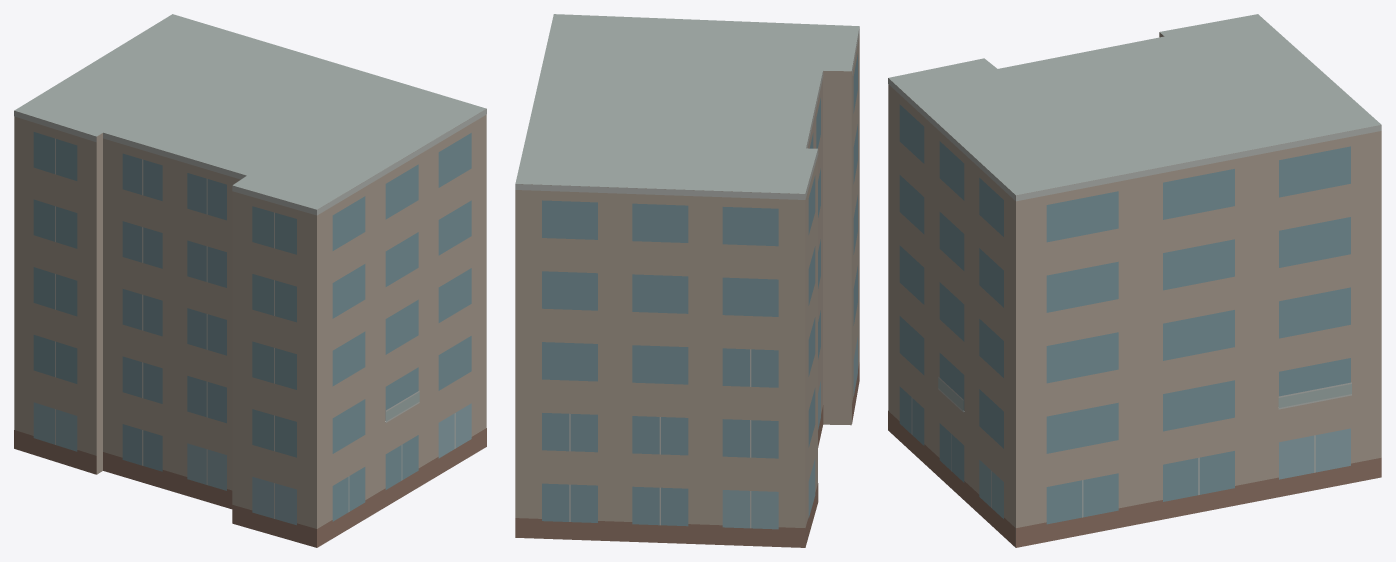
Rendered from survey-upis-32930096.glb.
The picture shows the model from 3 angles, left to right: view 1: azimuth 30°, elevation 25°; view 2: azimuth 150°, elevation 25°; view 3: azimuth 270°, elevation 25°; orthographic projection. The views are drawn at different scales.
Visible parts, largest first — view 1: survey-upis-32930096.tmp; view 2: survey-upis-32930096.tmp; view 3: survey-upis-32930096.tmp.
Boxes of the visible parts, box(x1,y1,x2,y2) form: survey-upis-32930096.tmp: box(14, 14, 486, 547); survey-upis-32930096.tmp: box(515, 14, 859, 547); survey-upis-32930096.tmp: box(888, 14, 1381, 547).
Bounding box in the file's own units: 15.67 × 14.2 × 18.03.
